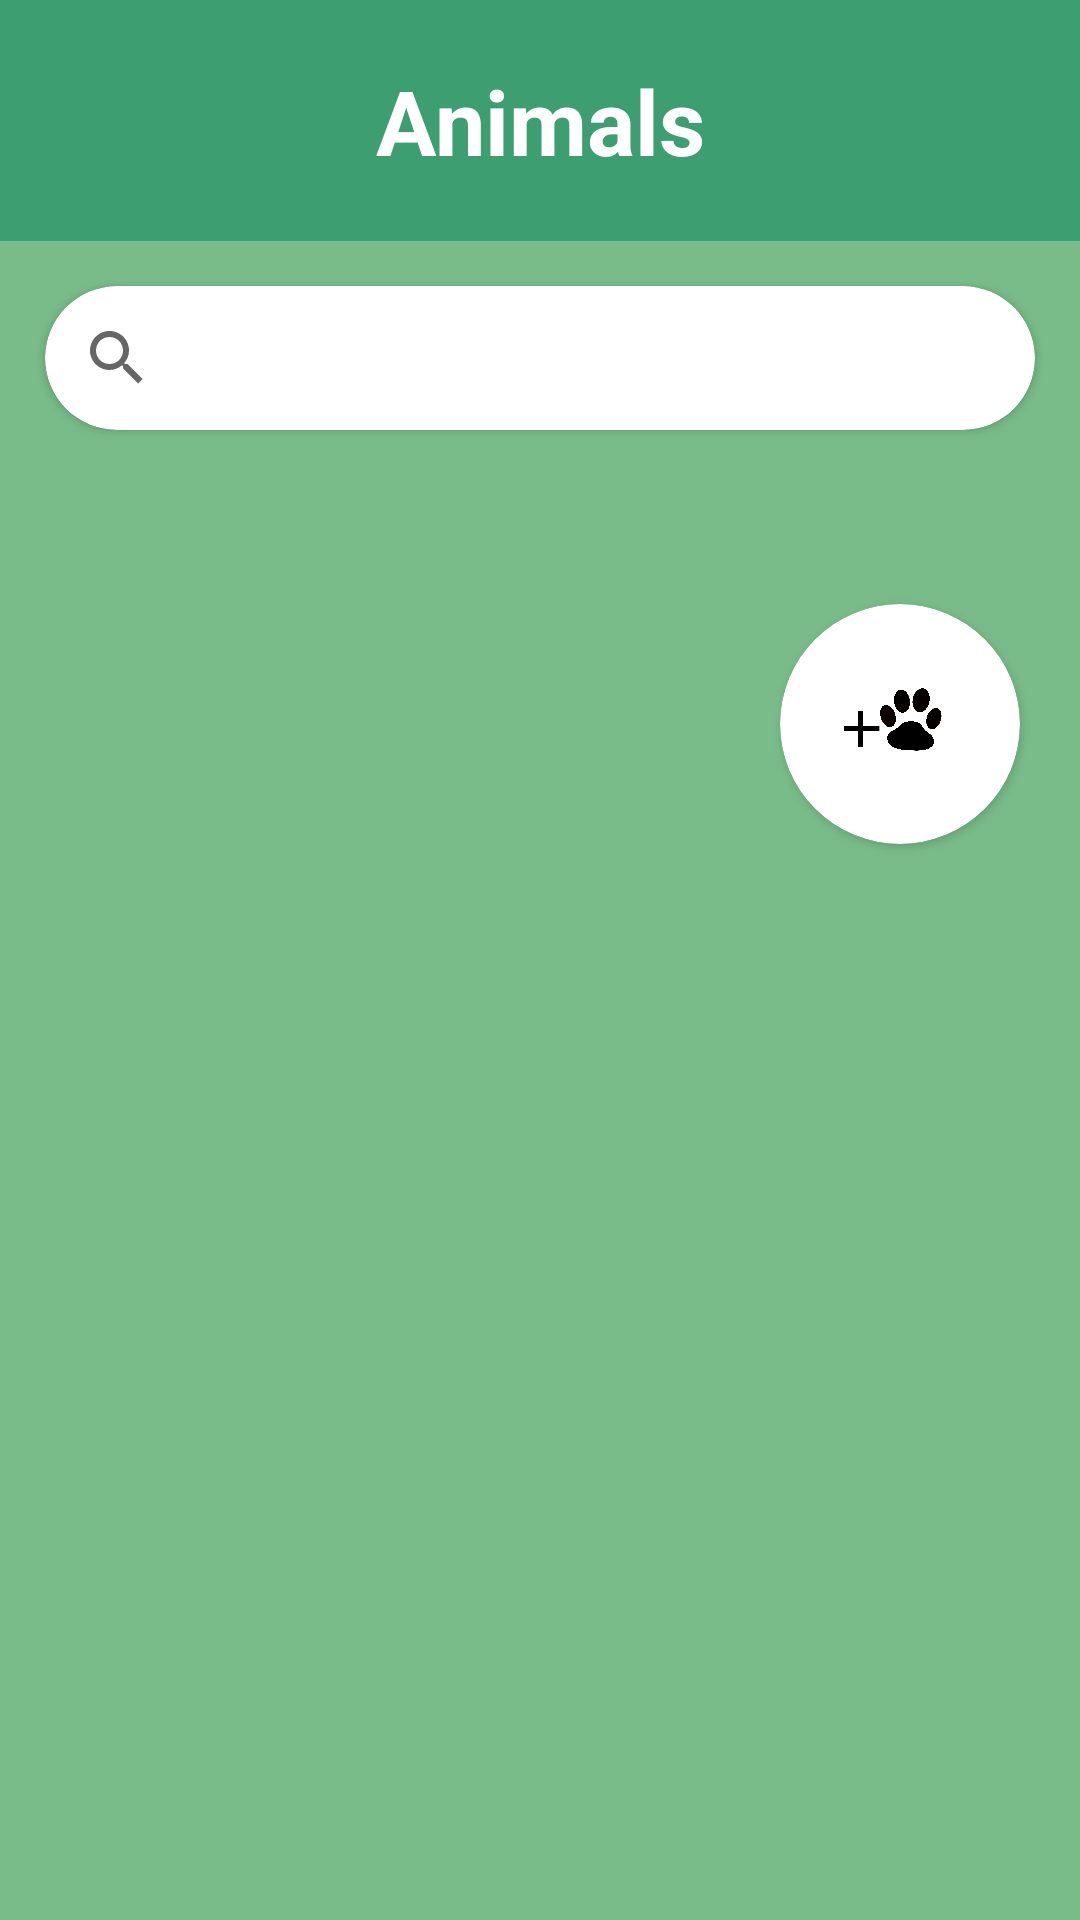

Where to tap for icons on this 1080px×1920px app screen, as (x,y):
add animal: (893,719)
